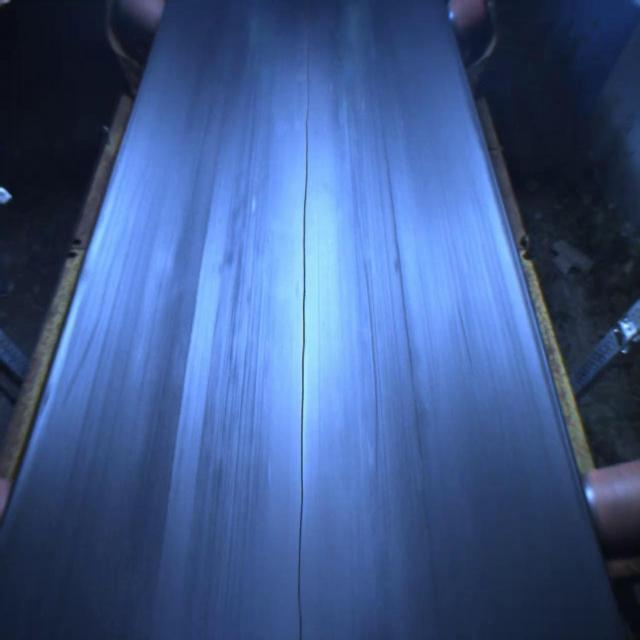Tear: (290, 41, 316, 640)
